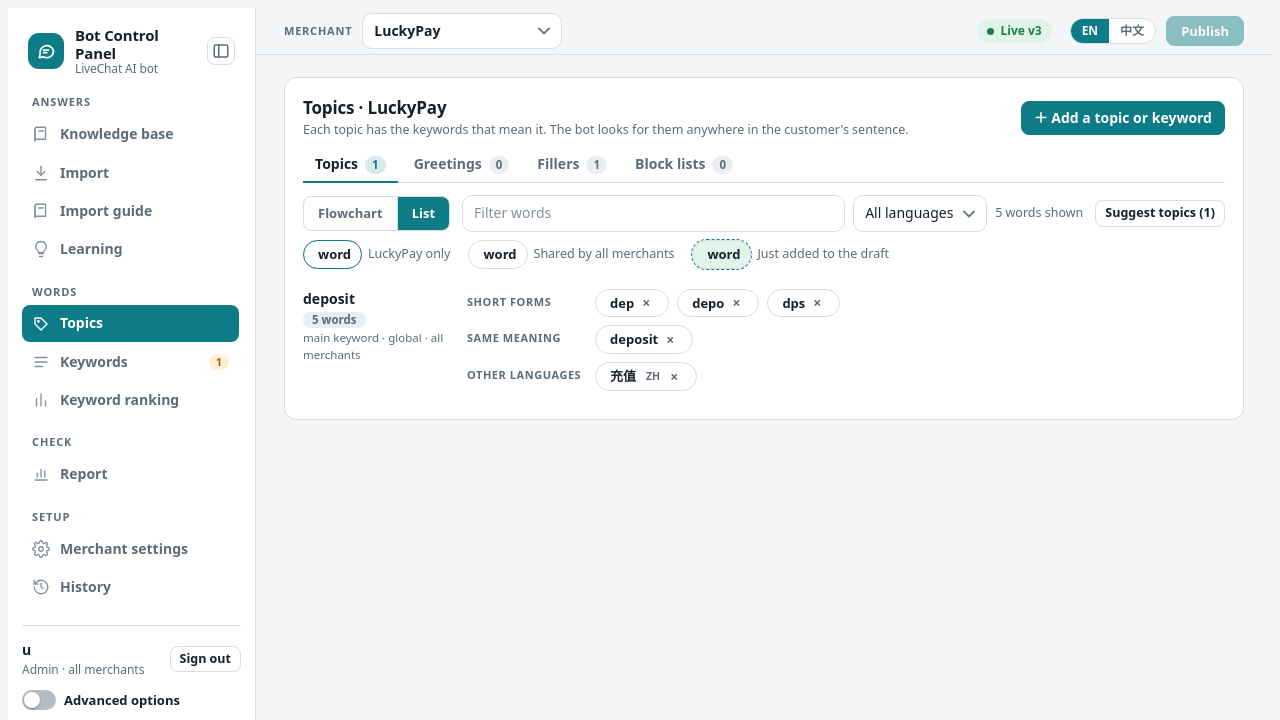
Test case: Control panel › does not add a word that already exists
Click the button "＋ Add a topic or keyword" at (1123, 118), box [1021,100,1225,135]
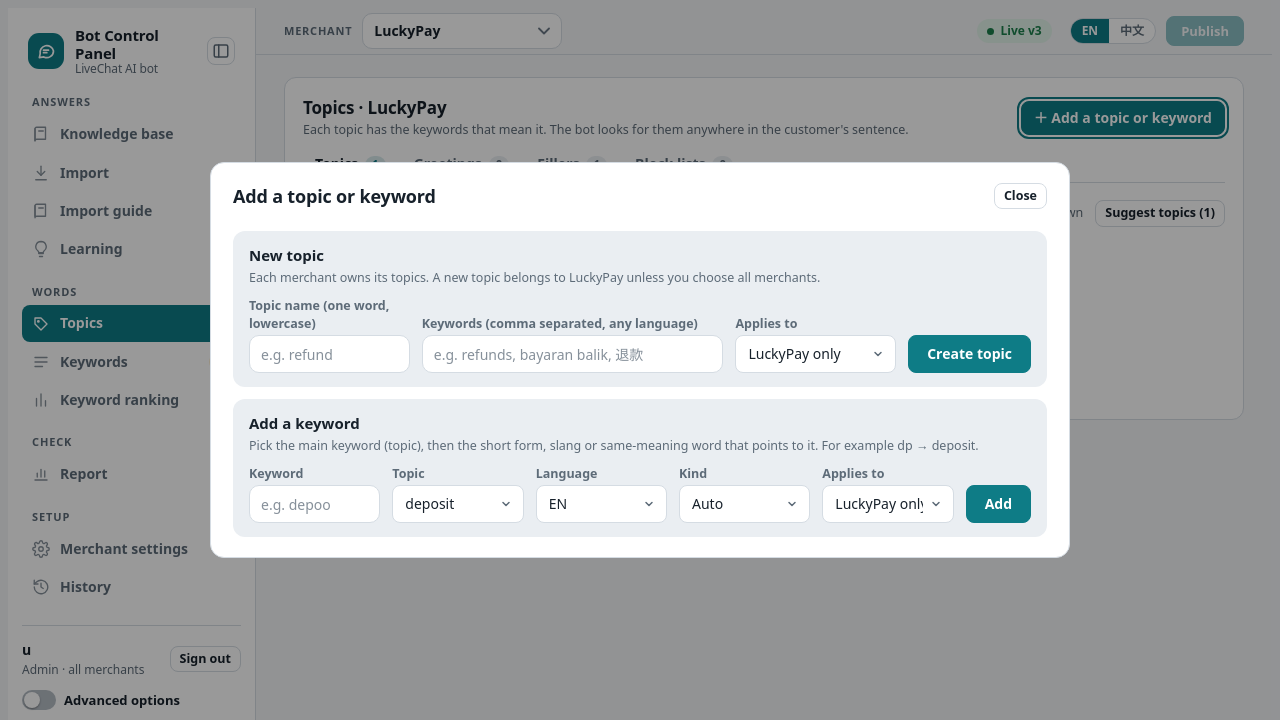
Type "deposit" into the field with placeholder "e.g. depoo" at (315, 504), box [249,485,380,523]
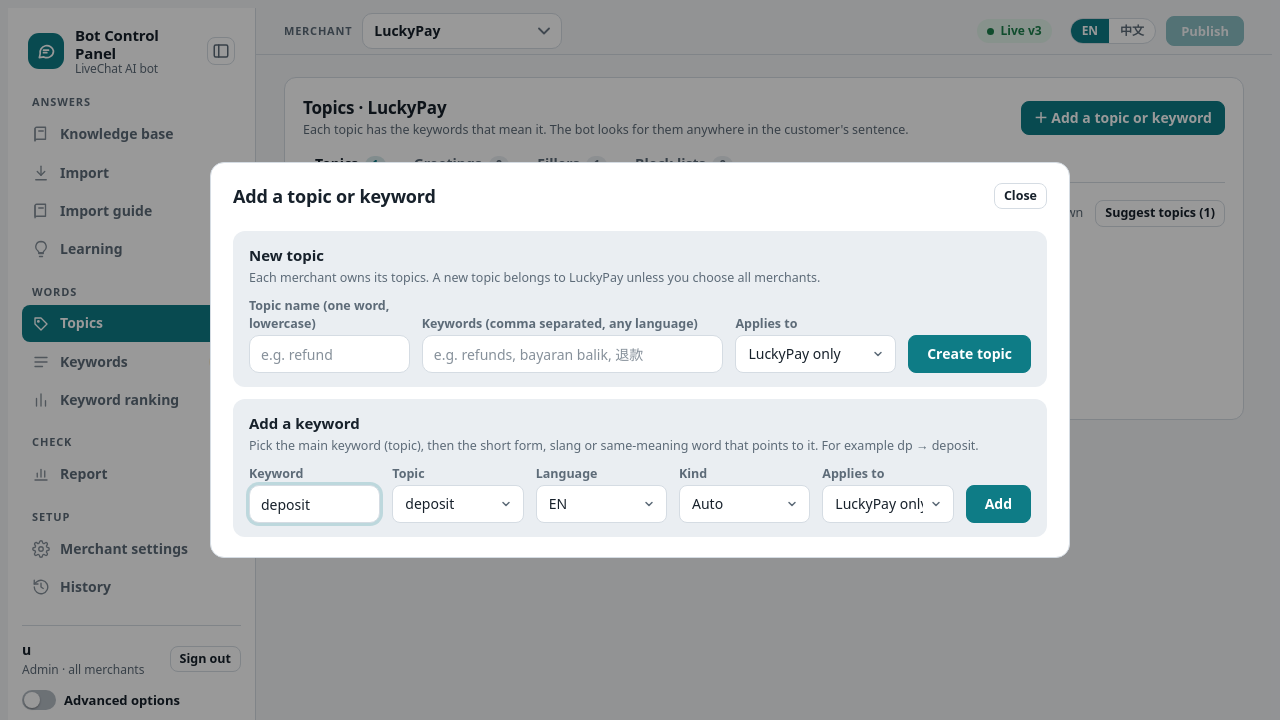
Click the button "Add" at (998, 504), box [966,485,1031,523]
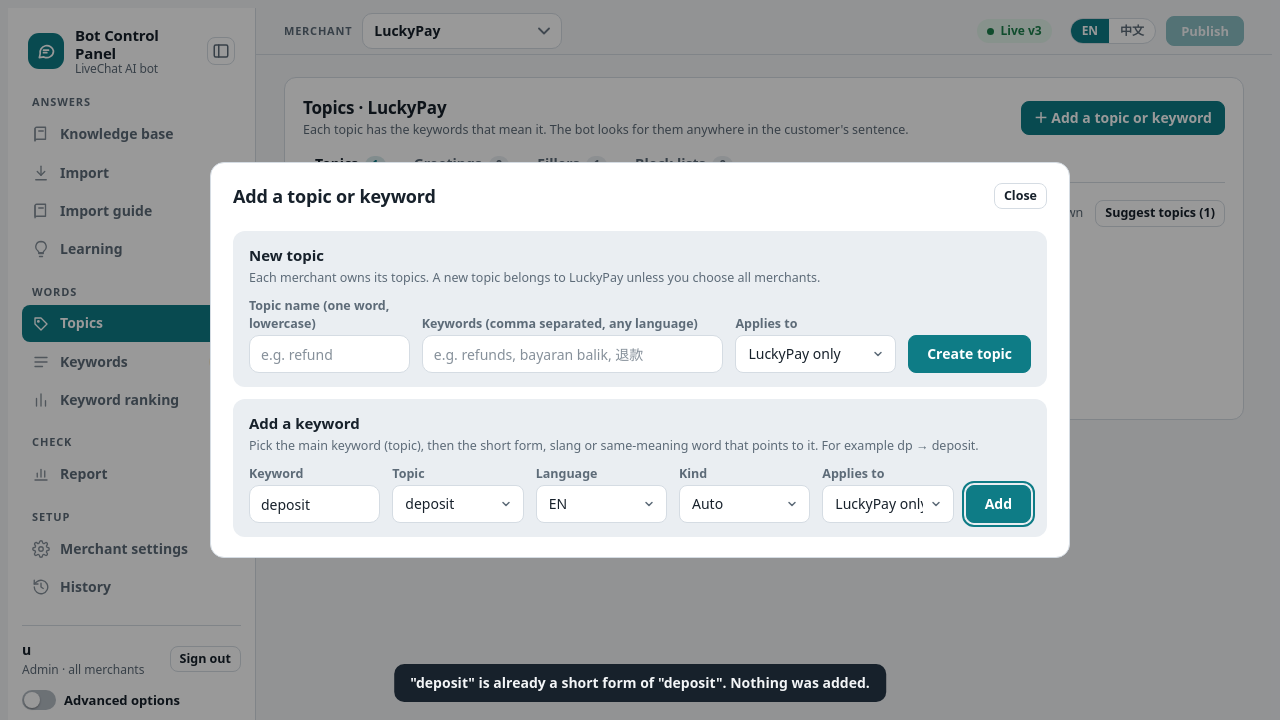
Check: the button "Publish" is disabled, box [1166,16,1244,46]
Check: the text "\"deposit\" is already a short form of \"deposit\". Nothing was added." is shown, box [394,664,886,702]
